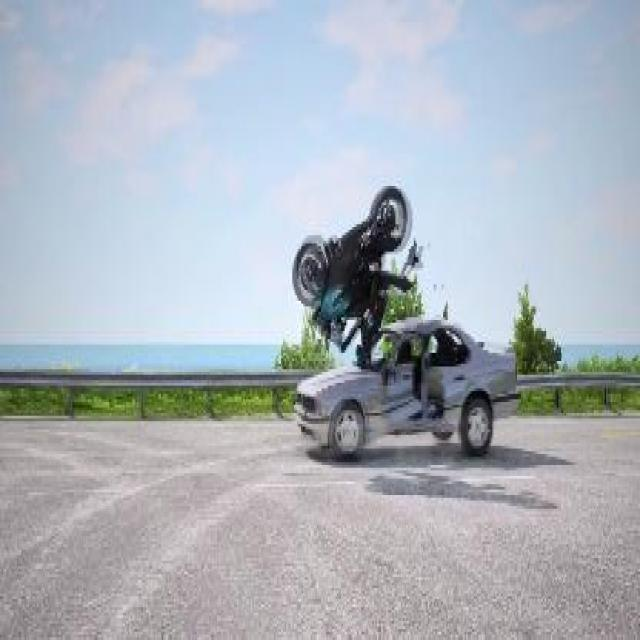accident: (284, 183, 519, 468)
